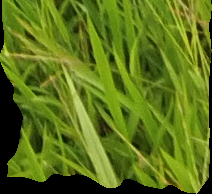grass: (1, 1, 211, 193)
